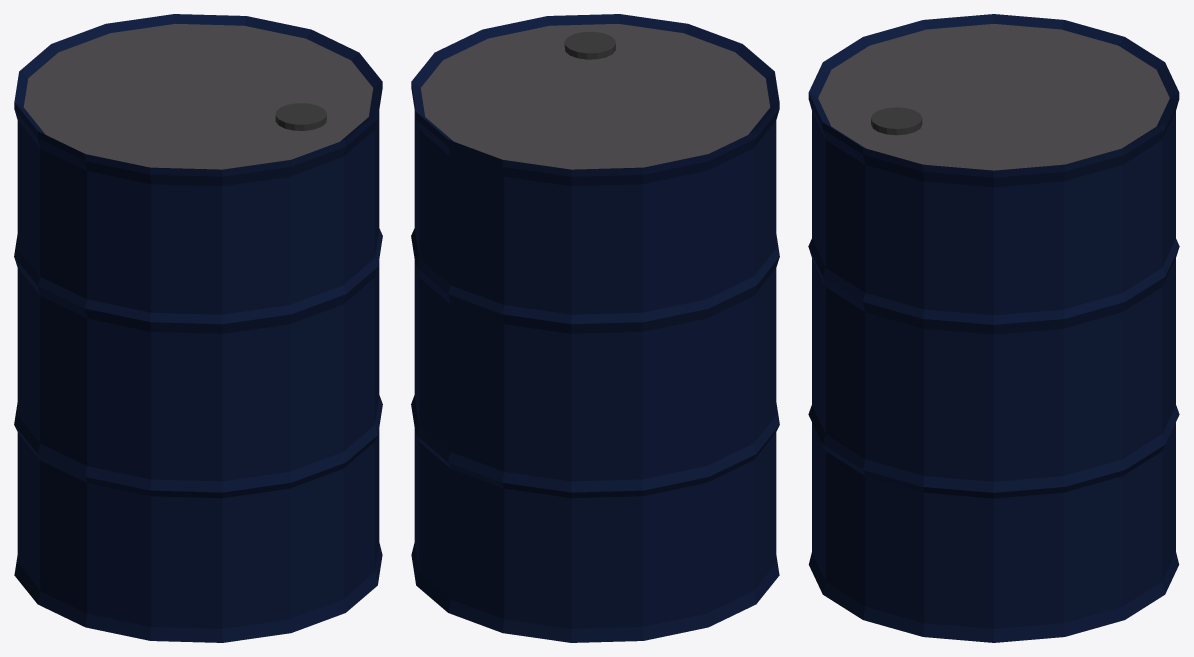
File: BlueBarrel.fbx
The picture shows the model from 3 angles, left to right: view 1: azimuth 30°, elevation 25°; view 2: azimuth 150°, elevation 25°; view 3: azimuth 270°, elevation 25°; orthographic projection.
Visible parts, largest first — view 1: Cylinder.003; view 2: Cylinder.003; view 3: Cylinder.003.
Part boxes in pixels (<box>): Cylinder.003: <box>14,14,382,642</box>; Cylinder.003: <box>411,14,779,642</box>; Cylinder.003: <box>808,14,1179,642</box>.
Size of the model in its own units: 233 by 328 by 233.
